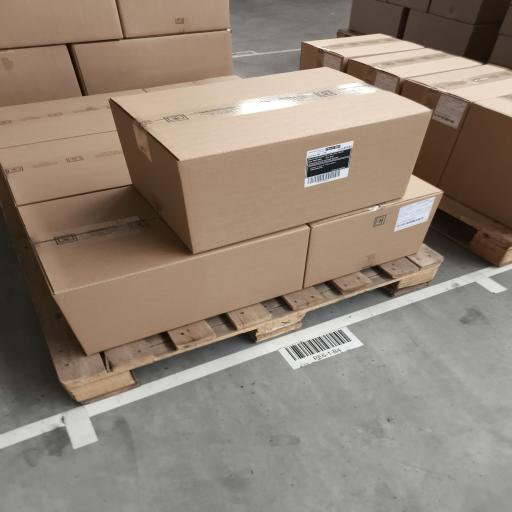pallet: (14, 238, 442, 402), (432, 196, 511, 266), (337, 29, 362, 38)
